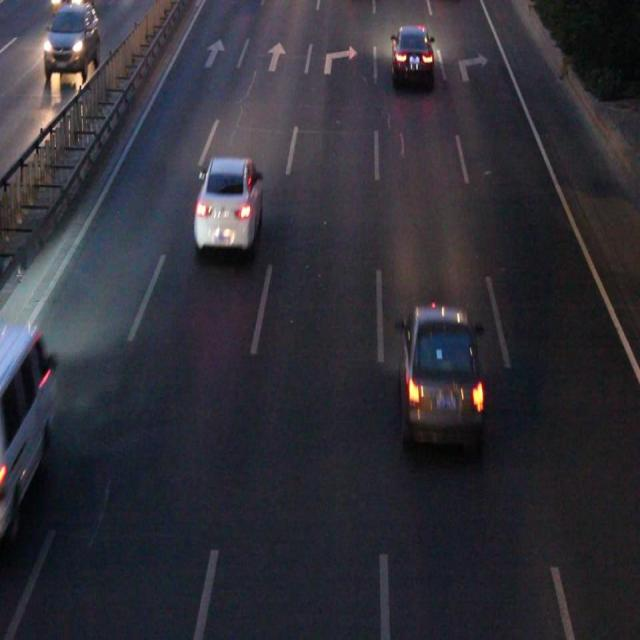car: (399, 305, 482, 446), (194, 158, 262, 246), (389, 28, 432, 80)
truck: (1, 325, 55, 513)
